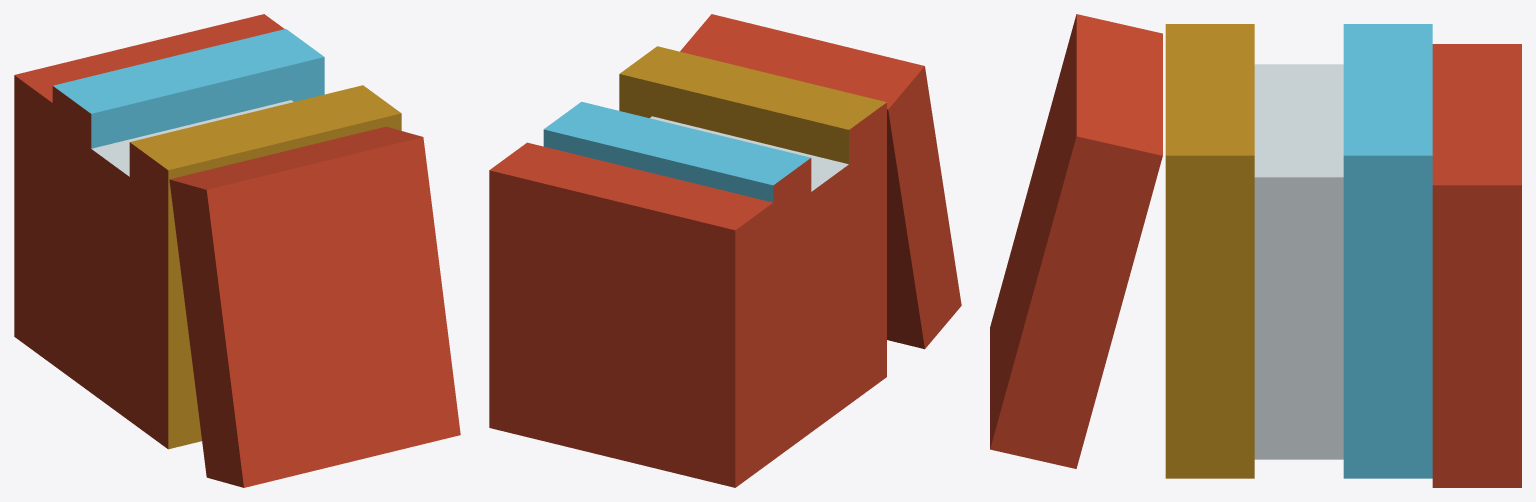
File: books-transformed.glb
The picture shows the model from 3 angles, left to right: view 1: azimuth 30°, elevation 25°; view 2: azimuth 150°, elevation 25°; view 3: azimuth 270°, elevation 25°; orthographic projection. The views are drawn at different scales.
Visible parts, largest first — view 1: Books; view 2: Books; view 3: Books.
Part boxes in pixels (x1,y1,x2,y2): Books: (14, 14, 460, 487); Books: (489, 14, 961, 487); Books: (990, 14, 1521, 487).
Bounding box in the file's own units: 0.4653 × 0.5115 × 0.7407.
